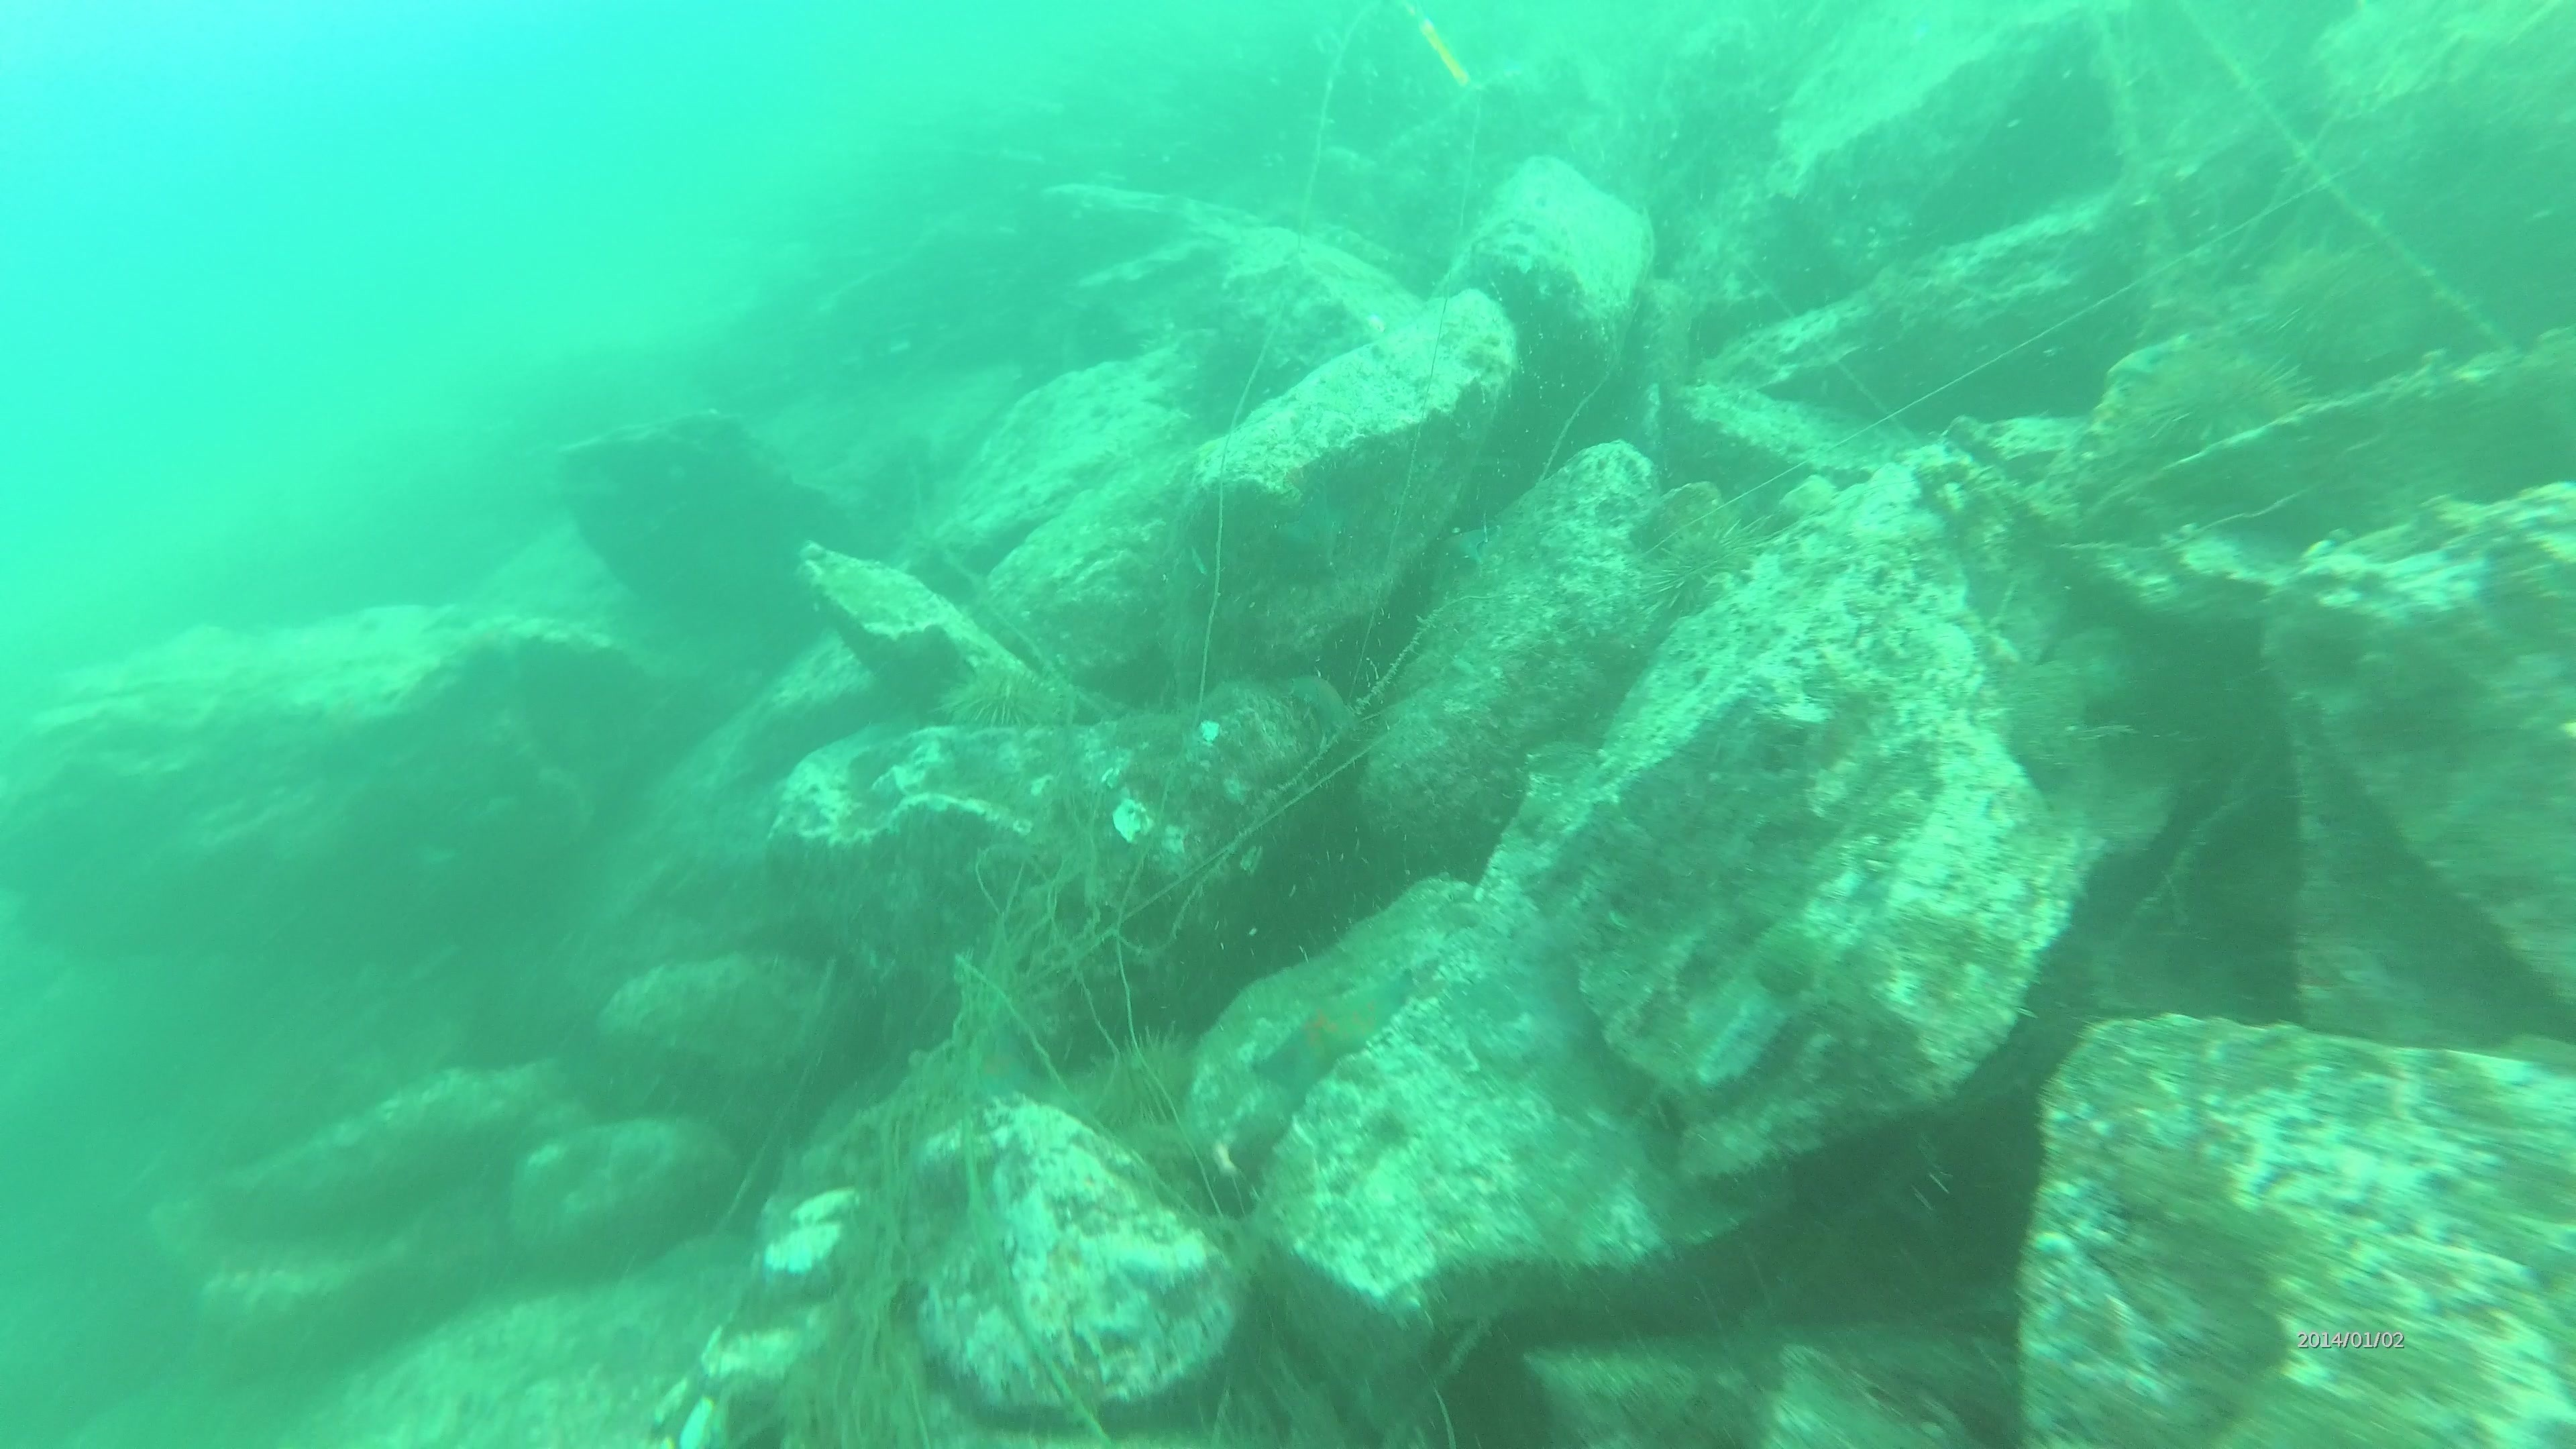echinus: (2121, 333, 2318, 464), (2238, 234, 2401, 384), (1624, 479, 1764, 630), (1072, 1021, 1210, 1143), (929, 656, 1069, 741)
starfish: (1247, 959, 1422, 1099)
